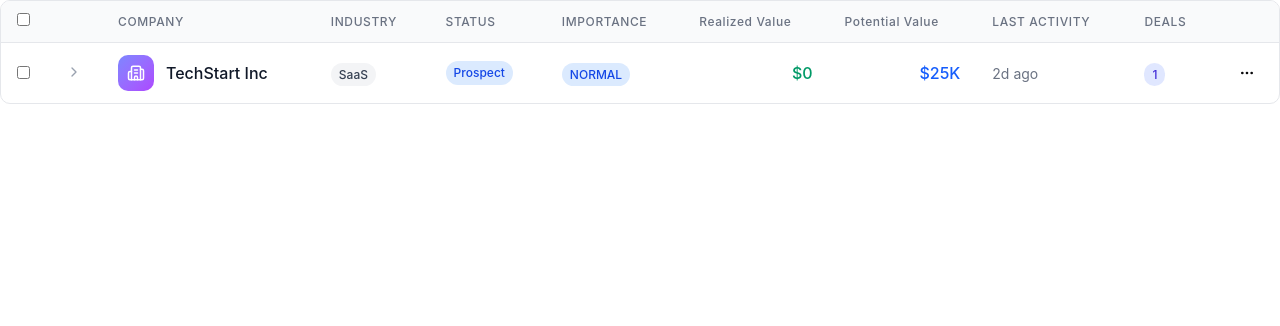
it: CRMCustomerTable › Actions Menu › should show Create Subscription for non-active customers
Click the 4th button: (1247, 73) [1231,57,1263,89]
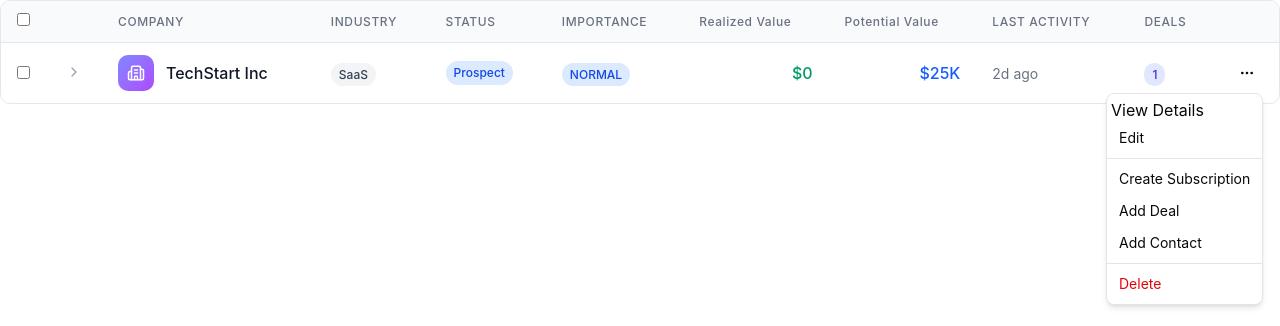
Check: the menu item "Create Subscription" is shown, box [1119,170,1250,187]
